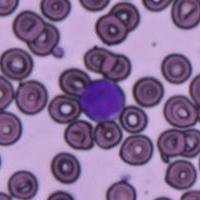L: (78, 78, 125, 122)
